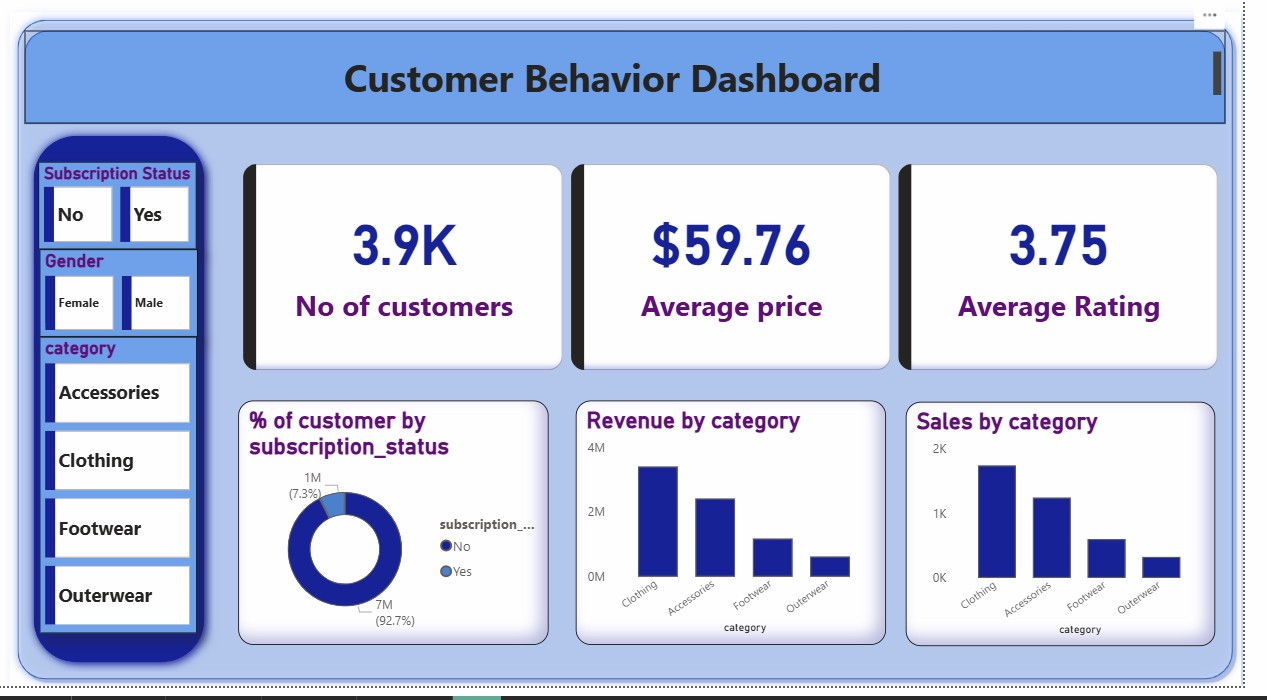

The page's visual inventory and layout, read from the dashboard file:
{"tool":"powerbi","page":{"name":"Page 1","canvas":[1280,720],"ordinal":0},"visuals":[{"type":"shape","box":[52.1,48,1225.4,672.4],"z":0},{"type":"cardVisual","fields":{"Data":["customer_behavior customer.No of customers","customer_behavior customer.average price","customer_behavior customer.average_rating"]},"box":[279.9,194.9,982.5,215.4],"z":1000},{"type":"donutChart","title":"% of customer by subscription_status","fields":{"Category":["customer_behavior customer.subscription_status"],"Y":["Sum(customer_behavior customer.customer_id)"]},"box":[279.9,435,308.7,242.9],"z":2000},{"type":"clusteredColumnChart","title":"Revenue by category","fields":{"Y":["Sum(customer_behavior customer.customer_id)"],"Category":["customer_behavior customer.category"]},"box":[616.1,435,308.7,242.9],"z":3000},{"type":"clusteredColumnChart","title":"Sales by category","fields":{"Y":["CountNonNull(customer_behavior customer.customer_id)"],"Category":["customer_behavior customer.category"]},"box":[944.1,436.4,308,242.9],"z":4000},{"type":"shape","box":[67.2,67.2,1195.2,93.3],"z":5000},{"type":"textbox","box":[48,83.7,1214.4,56.3],"z":6000},{"type":"shape","box":[66.7,162.5,188,542],"z":7000},{"type":"advancedSlicerVisual","title":"Subscription Status","fields":{"Values":["customer_behavior customer.subscription_status"]},"box":[80.6,198,158,87.1],"z":8000},{"type":"advancedSlicerVisual","title":"Gender","fields":{"Values":["customer_behavior customer.gender"]},"box":[81.9,285.1,158,87.1],"z":9000},{"type":"advancedSlicerVisual","fields":{"Values":["customer_behavior customer.category"]},"box":[81.9,372.2,156.7,294.8],"z":10000}]}

Visuals, with their boxes in screenshot pixels (x1, y1, x2, y2), scaled from the page's 1280x720 canvas onto the 1267x700 screenshot:
shape: x1=52 y1=47 x2=1265 y2=699
cardVisual - customer_behavior customer.No of customers x customer_behavior customer.average price: x1=277 y1=189 x2=1250 y2=399
"% of customer by subscription_status" donutChart: x1=277 y1=423 x2=583 y2=659
"Revenue by category" clusteredColumnChart: x1=610 y1=423 x2=915 y2=659
"Sales by category" clusteredColumnChart: x1=935 y1=424 x2=1239 y2=660
shape: x1=67 y1=65 x2=1250 y2=156
textbox: x1=48 y1=81 x2=1250 y2=136
shape: x1=66 y1=158 x2=252 y2=685
"Subscription Status" advancedSlicerVisual: x1=80 y1=192 x2=236 y2=277
"Gender" advancedSlicerVisual: x1=81 y1=277 x2=237 y2=362
advancedSlicerVisual - customer_behavior customer.category: x1=81 y1=362 x2=236 y2=648
